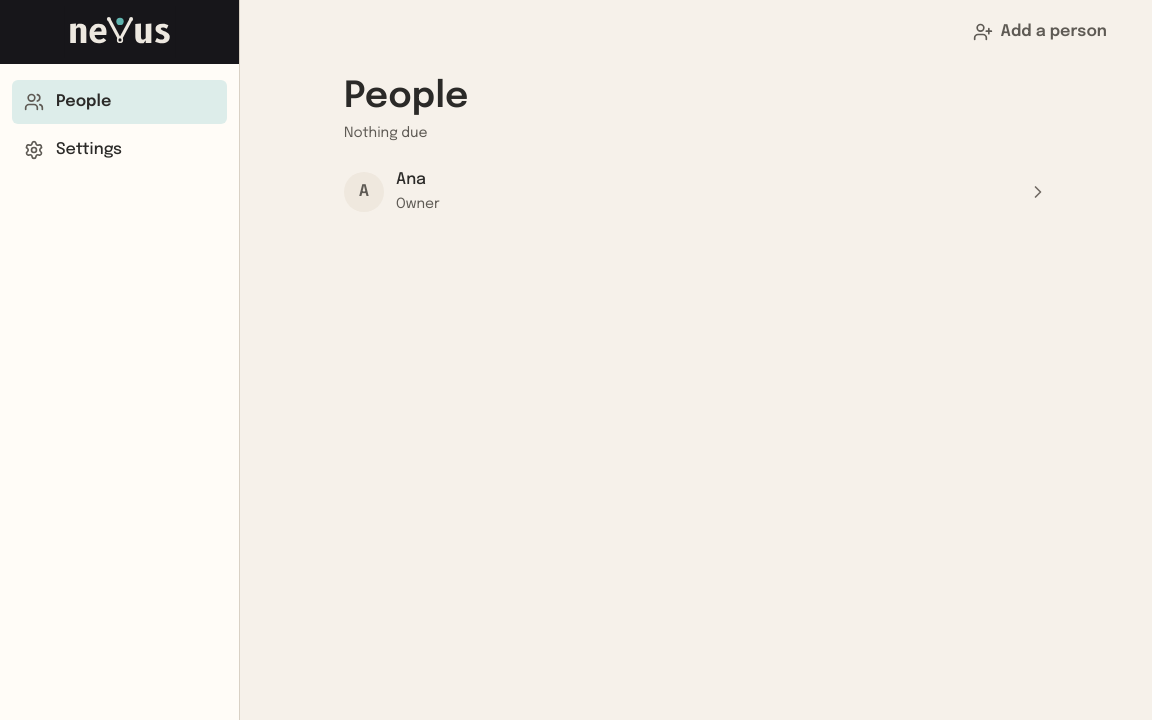
Test: persons › lists the persons the user may see and creates a new one
Expected: the text "Ana" is shown, [396, 171, 426, 188]
Click the button "Add a person" at (1040, 32), box [960, 10, 1120, 54]
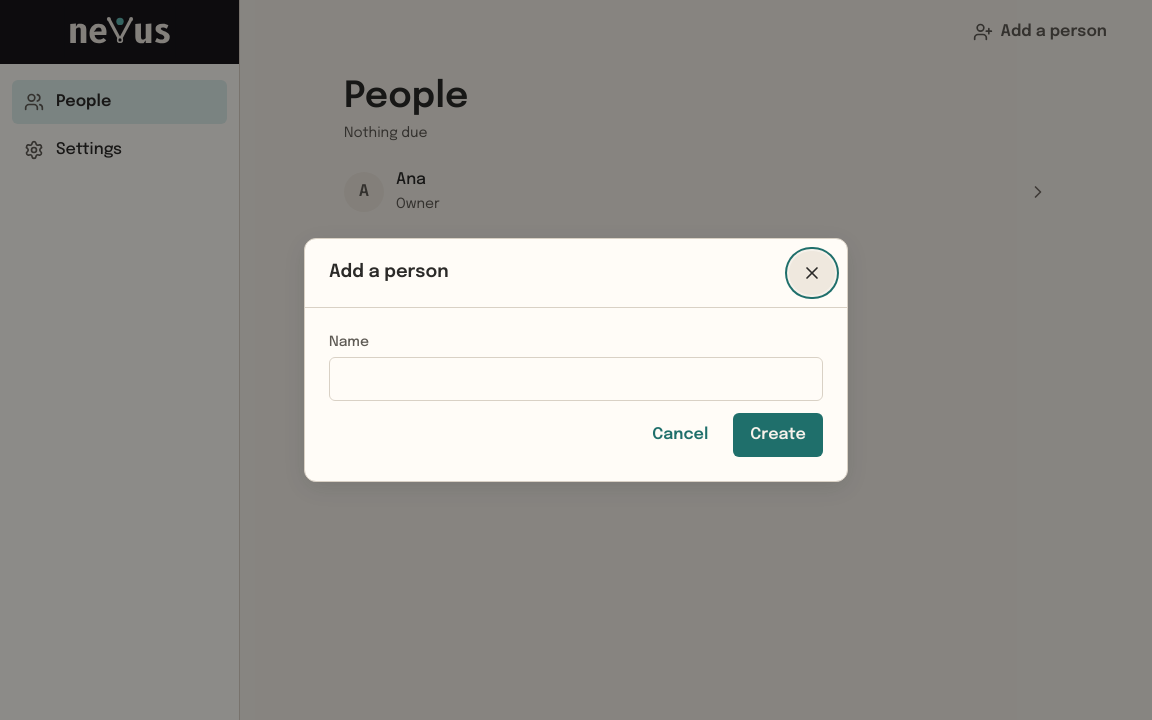
Type "Bea" into the field labelled "Name" at (576, 379), box [329, 357, 823, 401]
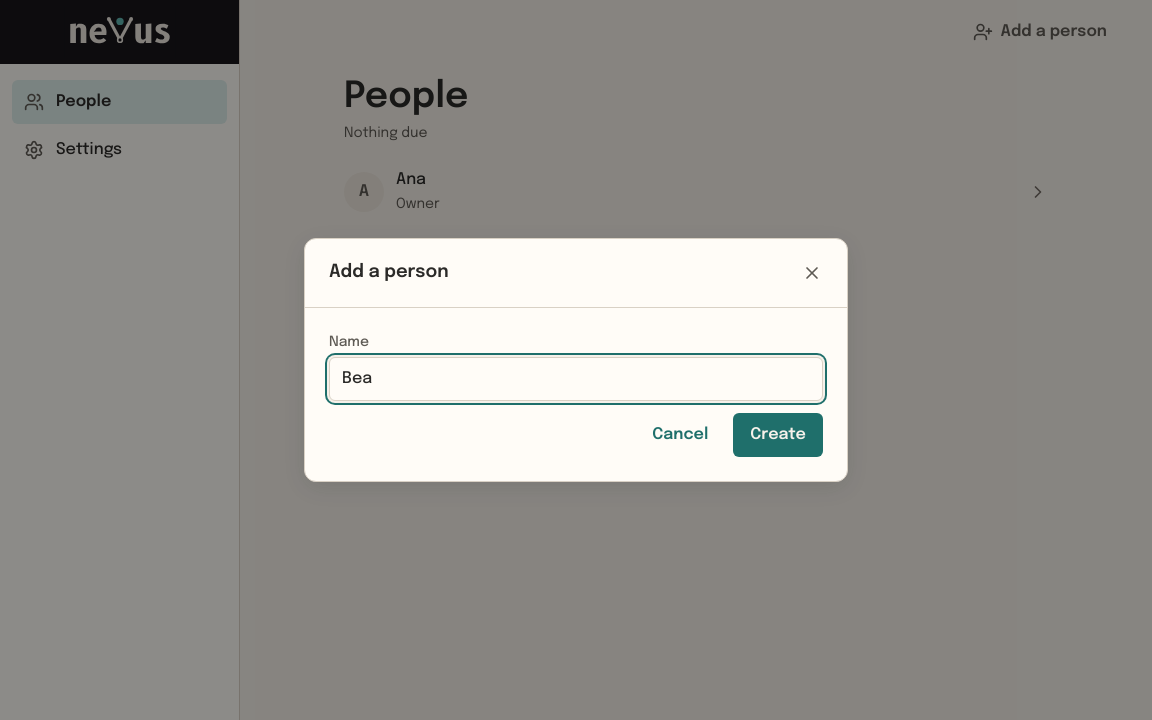
Click the button "Create" at (778, 435), box [733, 413, 823, 457]
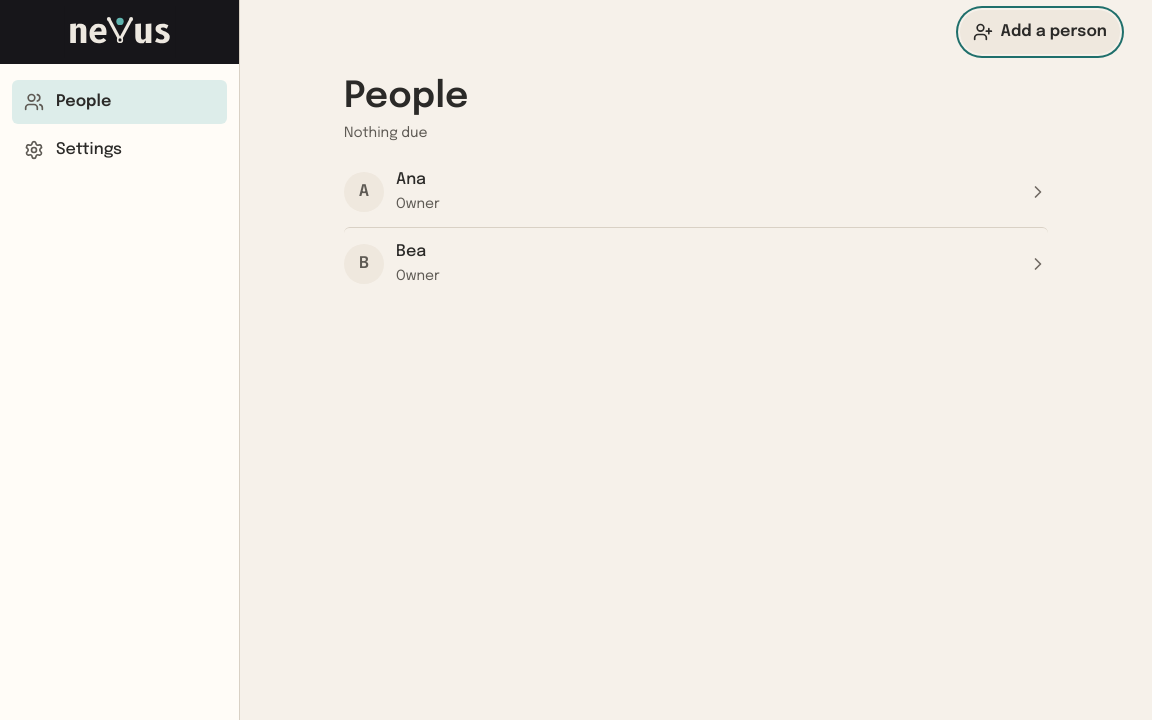
Now the text "Bea" is shown, box [396, 243, 426, 260]
